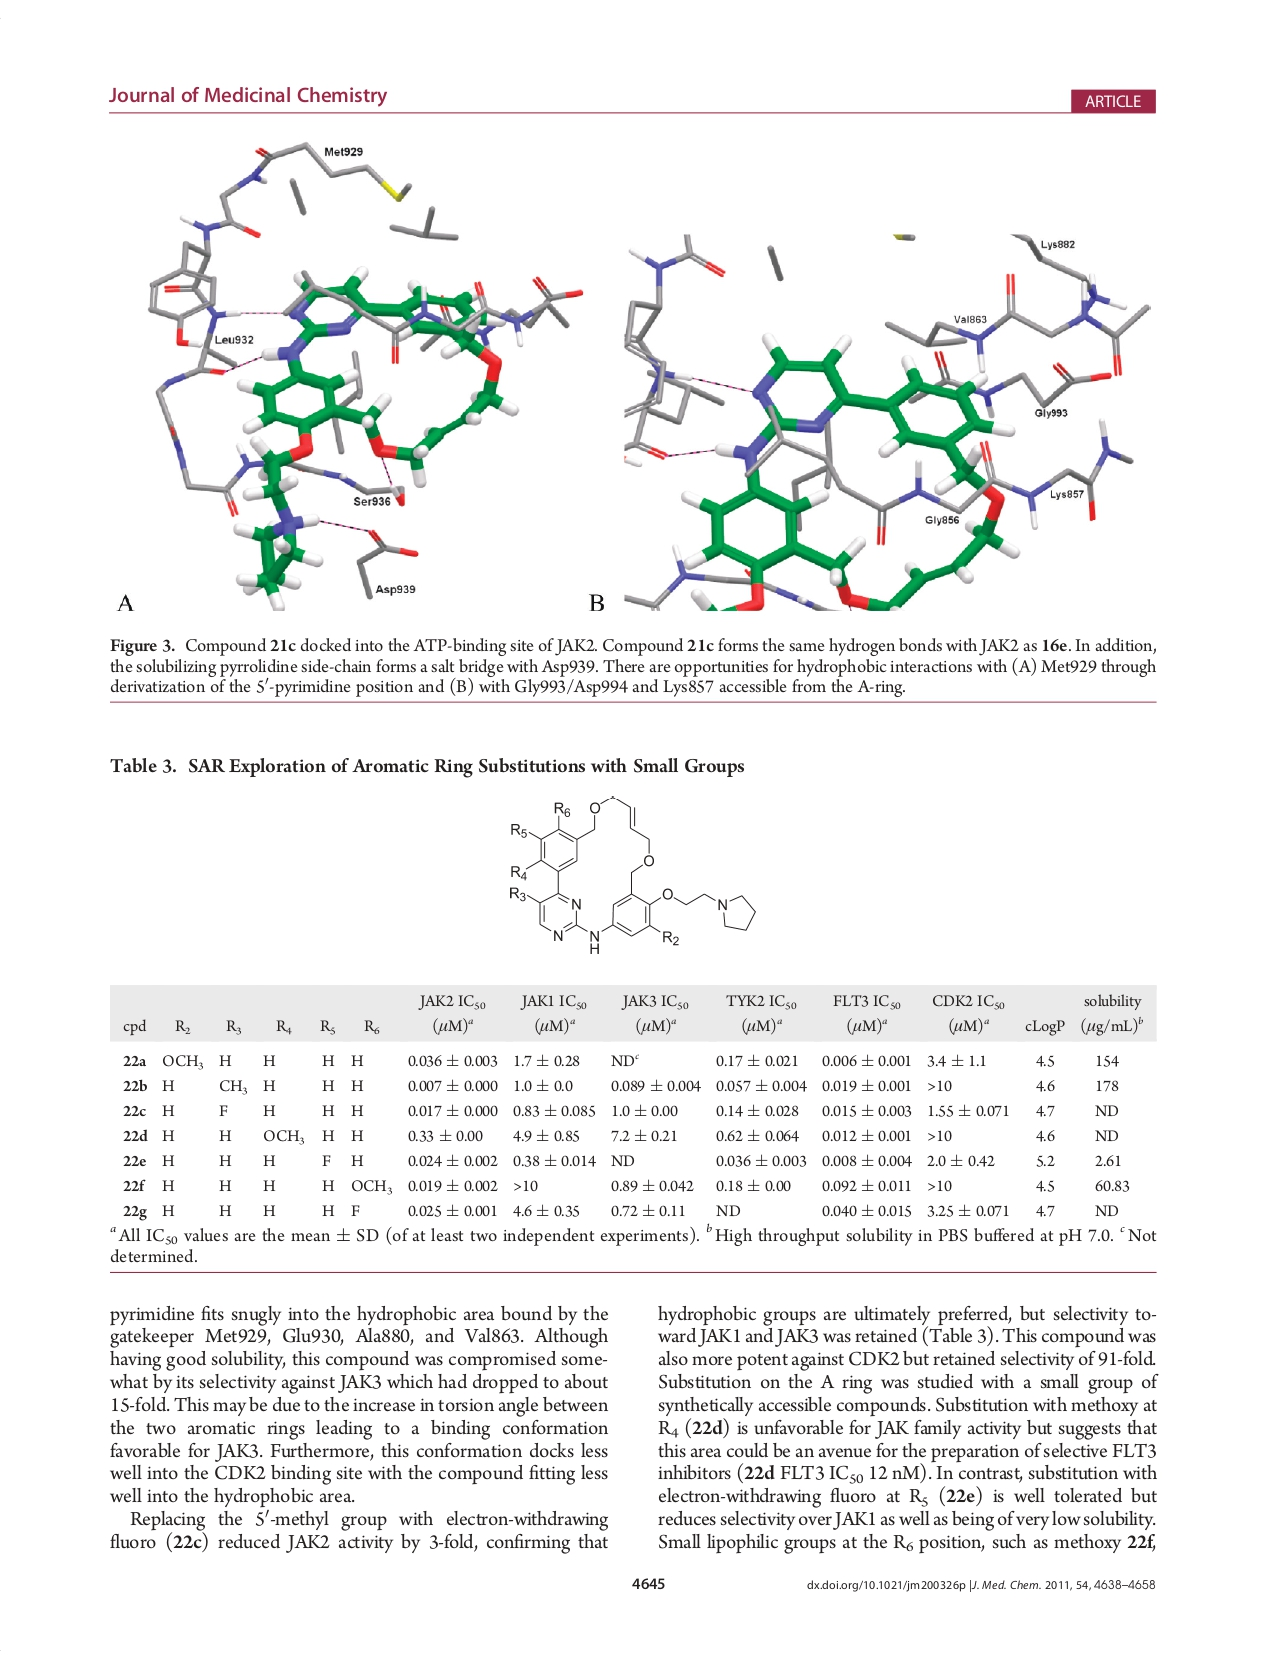exist_molecular: (505, 793, 757, 958)
